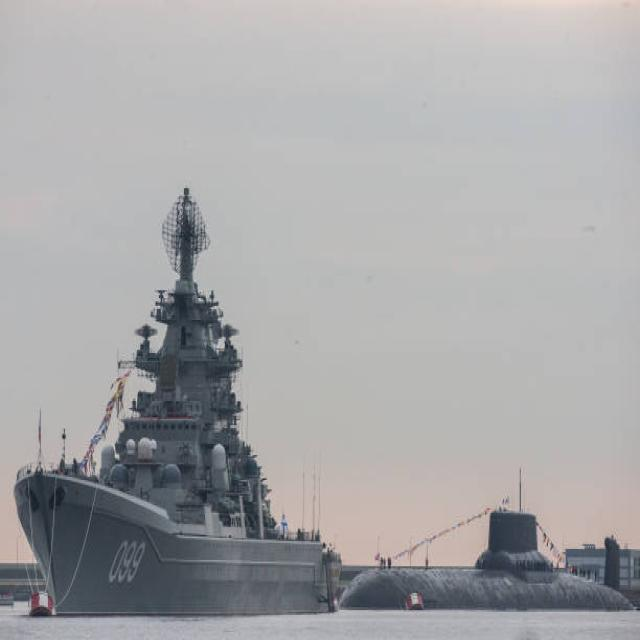Military: (14, 191, 350, 616)
